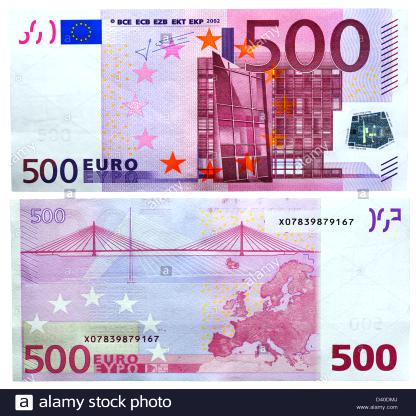euro_banknote: (12, 200, 412, 382), (13, 10, 410, 193)
